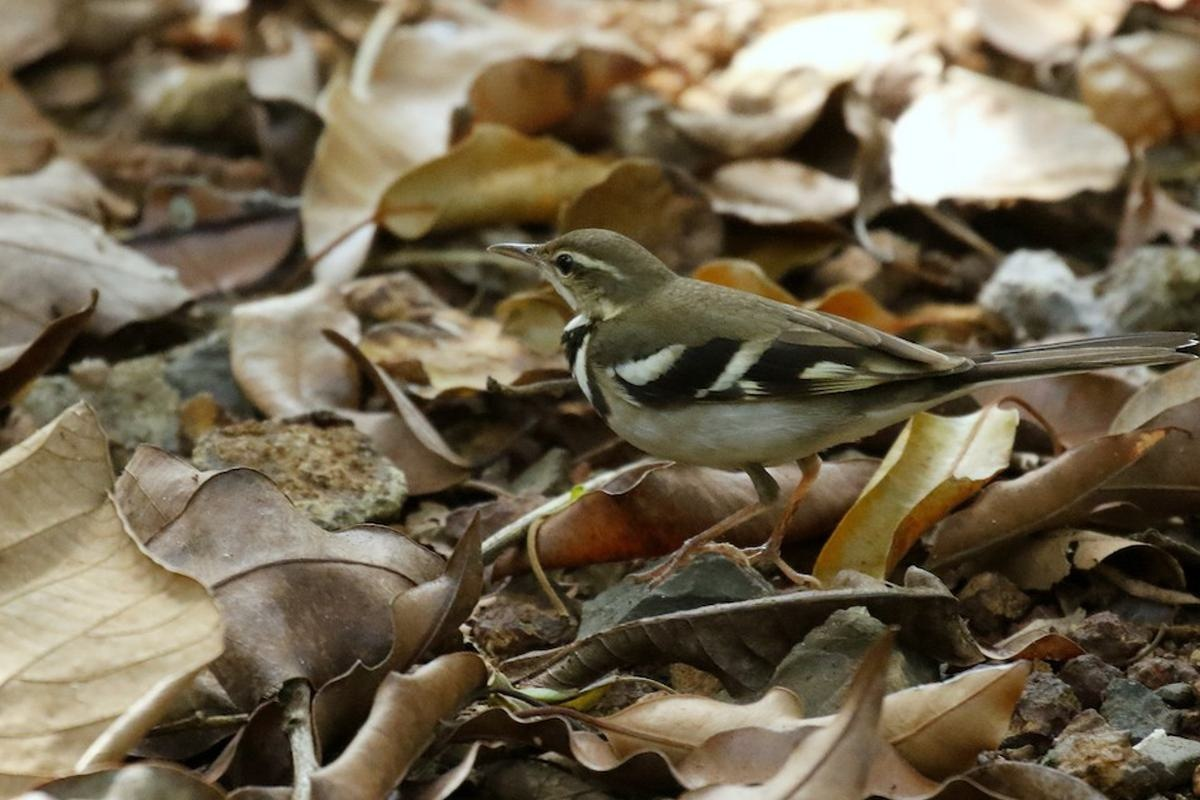wagtail: (457, 182, 1001, 502)
